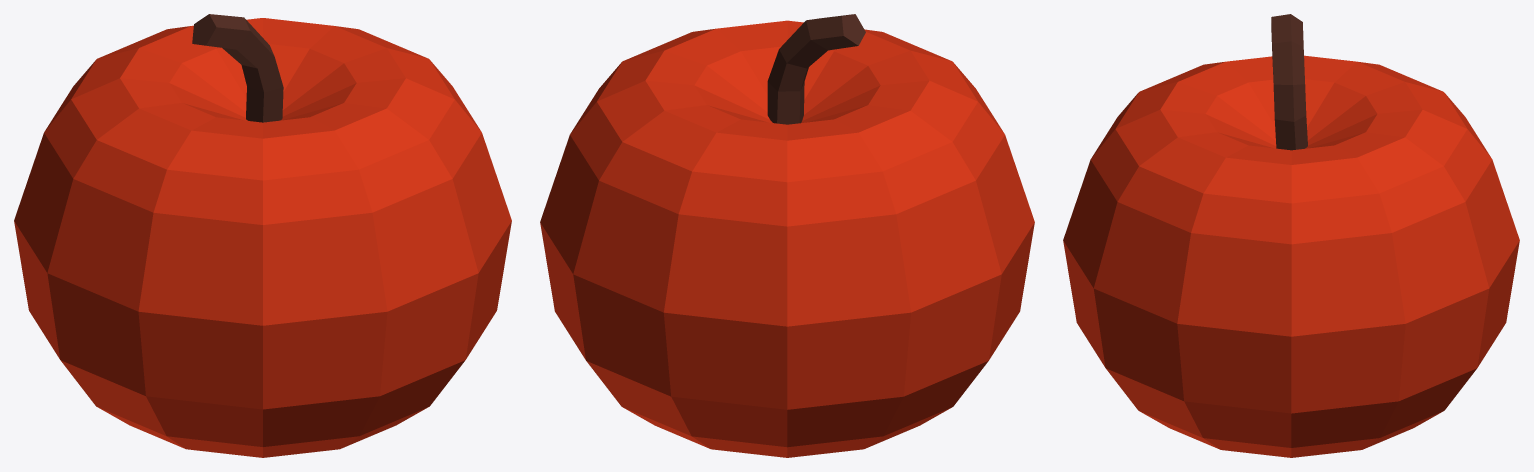
Rendered from apple.fbx.
3 renders of one model, left to right at view 1: azimuth 30°, elevation 25°; view 2: azimuth 150°, elevation 25°; view 3: azimuth 270°, elevation 25°, orthographic. The views are drawn at different scales.
Visible parts, largest first — view 1: apple; view 2: apple; view 3: apple.
Boxes of the visible parts, x1,y1,x2,y2 form: apple: [14, 14, 511, 457]; apple: [540, 14, 1034, 457]; apple: [1063, 14, 1519, 457].
Size of the model in its own units: 118 by 109 by 118.
